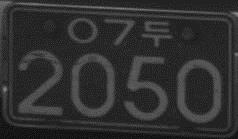0: (175, 58, 223, 123), (70, 52, 115, 119), (66, 16, 98, 44)
2: (17, 48, 63, 116)
5: (123, 54, 169, 122)
7: (102, 17, 137, 46)
두: (141, 20, 171, 48)
